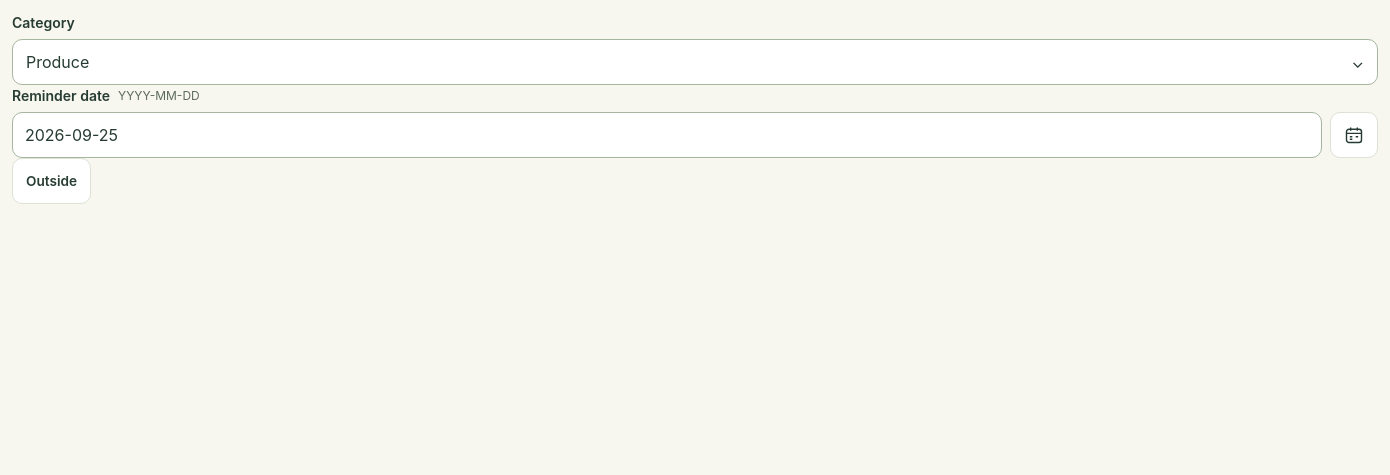
category dropdown › supports typeahead and Tab without trapping focus
The image size is (1390, 475).
Click the button named "Category Produce" at (58, 62), box [12,39,1378,85]
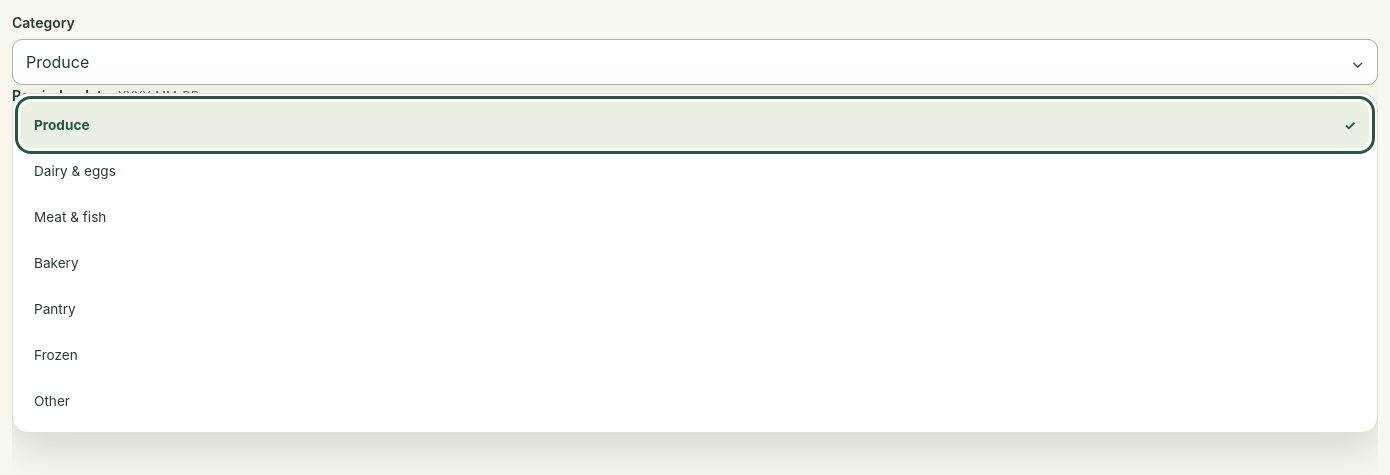
Type keys "f"
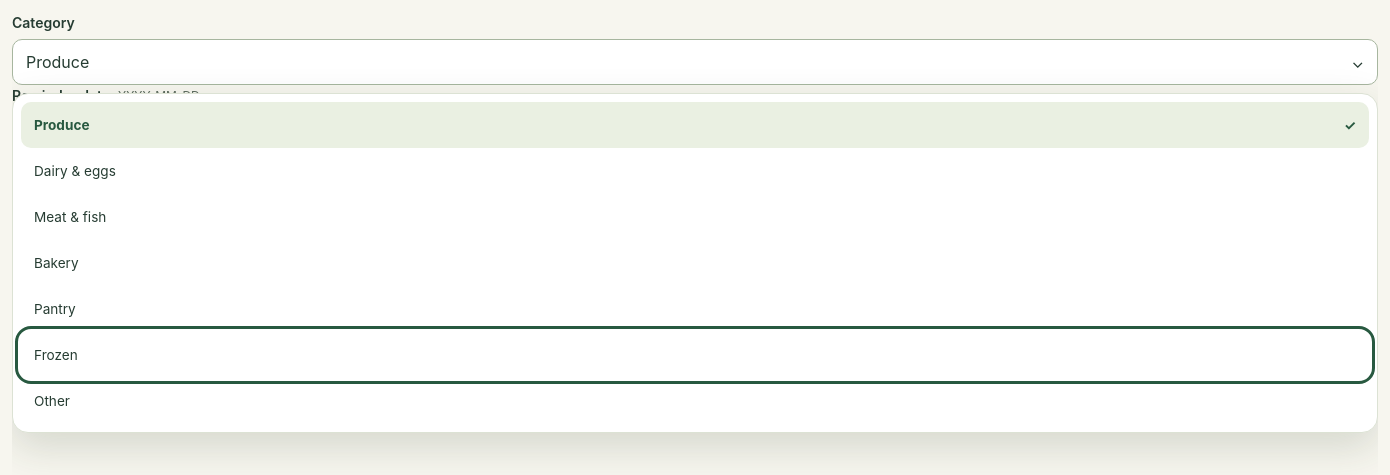
Press Tab
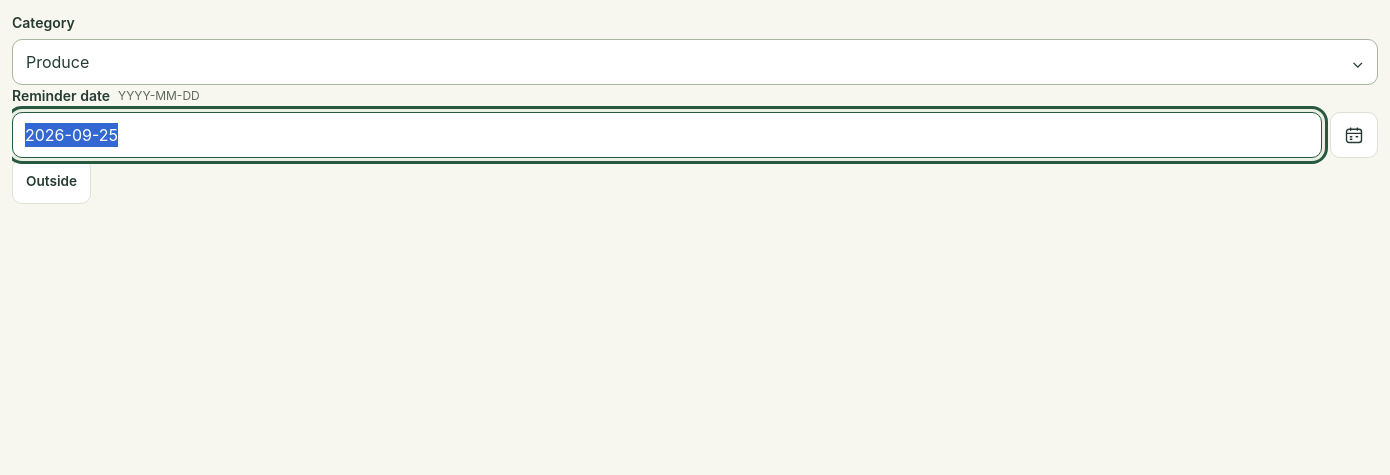
expect the list is gone: met
